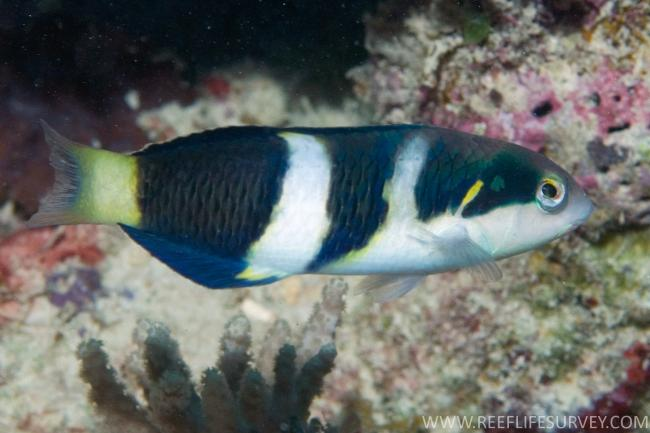fish: (26, 117, 593, 290)
